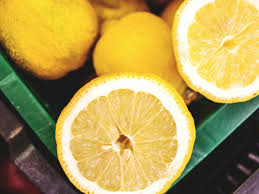Lemon: (94, 7, 188, 95)
